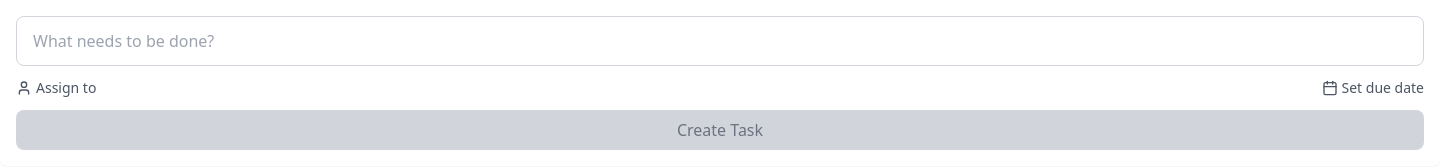
it: TaskCreator › enables create button when description is provided
Type "Test" into the field with placeholder "What needs to be done?" at point(720, 41), box [16, 16, 1424, 66]
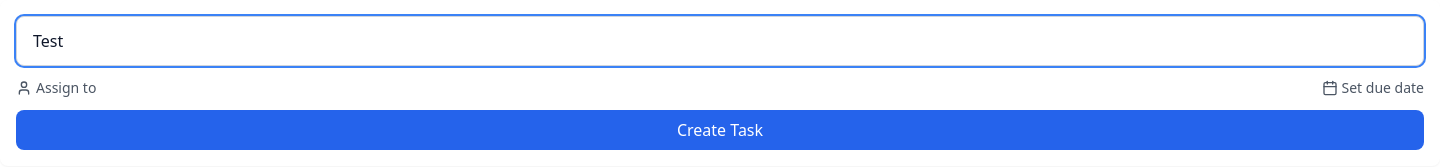
Expected: the button "Create Task" is enabled, [16, 110, 1424, 150]
